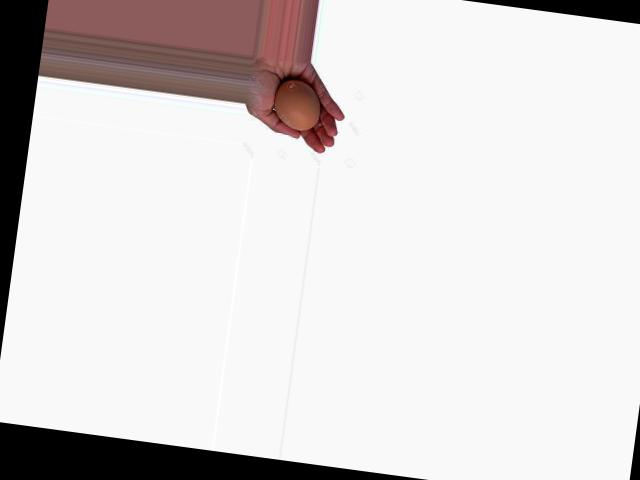egg: (271, 77, 324, 132)
